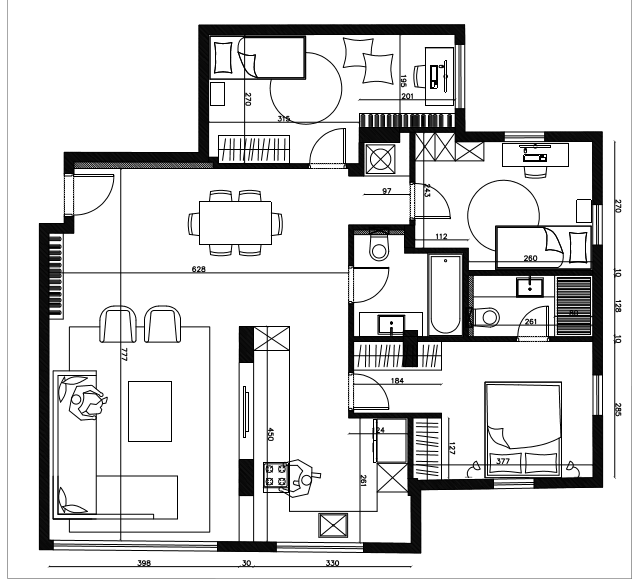wall: (38, 222, 50, 551), (197, 24, 465, 35), (63, 152, 208, 168), (196, 24, 208, 169), (592, 244, 603, 376), (410, 479, 495, 490), (592, 131, 603, 205), (592, 415, 603, 489), (410, 479, 421, 553), (461, 270, 590, 276), (534, 477, 603, 488), (417, 336, 519, 343), (544, 131, 603, 143), (348, 224, 415, 234), (454, 131, 505, 143), (217, 541, 276, 551), (362, 542, 421, 552), (404, 247, 469, 254), (455, 107, 466, 142), (39, 223, 73, 234)
